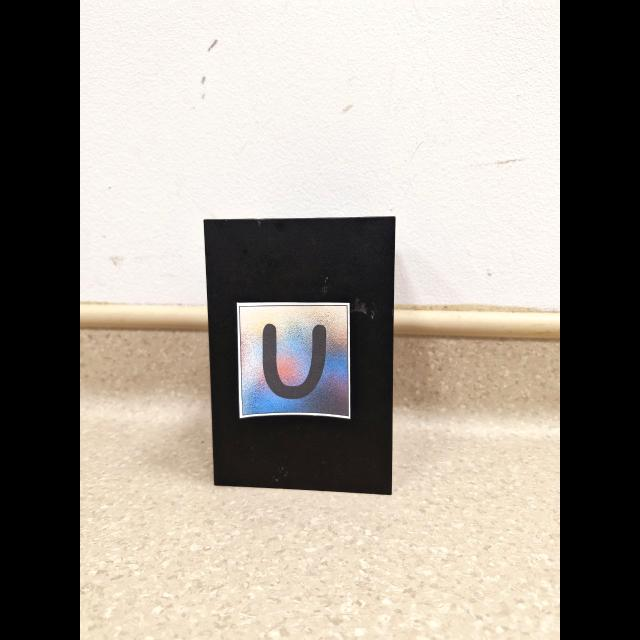U: (262, 322, 323, 394)
